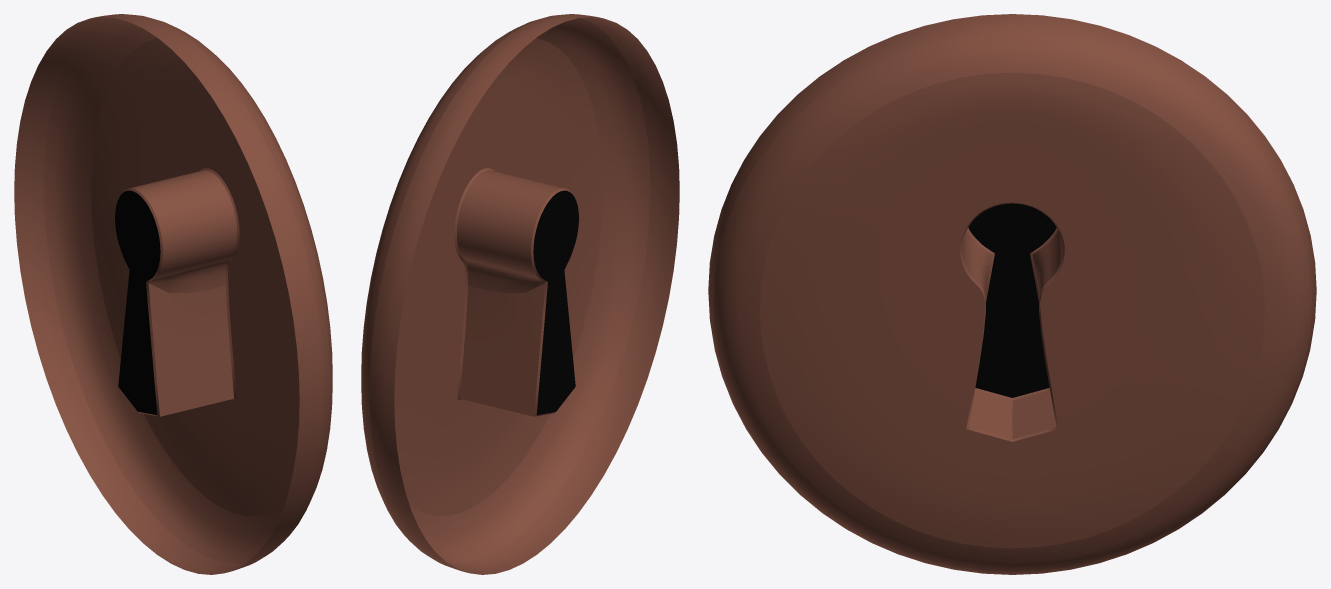
Rendered from lock.fbx.
3 renders of one model, left to right at view 1: azimuth 30°, elevation 25°; view 2: azimuth 150°, elevation 25°; view 3: azimuth 270°, elevation 25°, orthographic. The views are drawn at different scales.
Visible parts, largest first — view 1: Circle; view 2: Circle; view 3: Circle.
Boxes of the visible parts, <box> form: Circle: <box>14,14,332,574</box>; Circle: <box>361,14,679,574</box>; Circle: <box>708,14,1316,574</box>.
Size of the model in its own units: 38.6 by 247 by 247.
